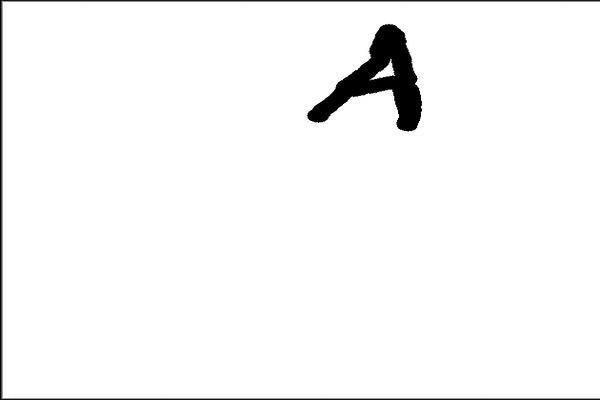A: (301, 18, 434, 142)
